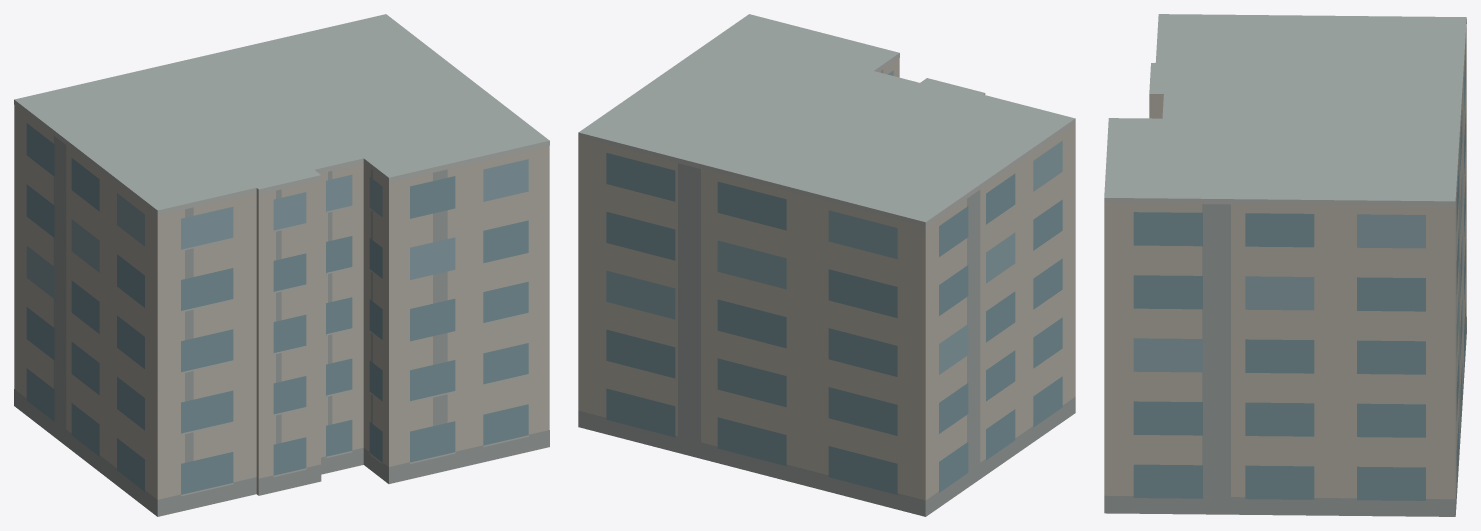
The model's file is survey-upis-32759908.glb.
3 renders of one model, left to right at view 1: azimuth 30°, elevation 25°; view 2: azimuth 150°, elevation 25°; view 3: azimuth 270°, elevation 25°, orthographic. The views are drawn at different scales.
Visible parts, largest first — view 1: survey-upis-32759908.tmp; view 2: survey-upis-32759908.tmp; view 3: survey-upis-32759908.tmp.
Part boxes in pixels (x1,y1,x2,y2): survey-upis-32759908.tmp: (14,14,549,516); survey-upis-32759908.tmp: (578,14,1075,516); survey-upis-32759908.tmp: (1104,14,1466,516).
Size of the model in its own units: 18.41 by 14.45 by 15.06.
